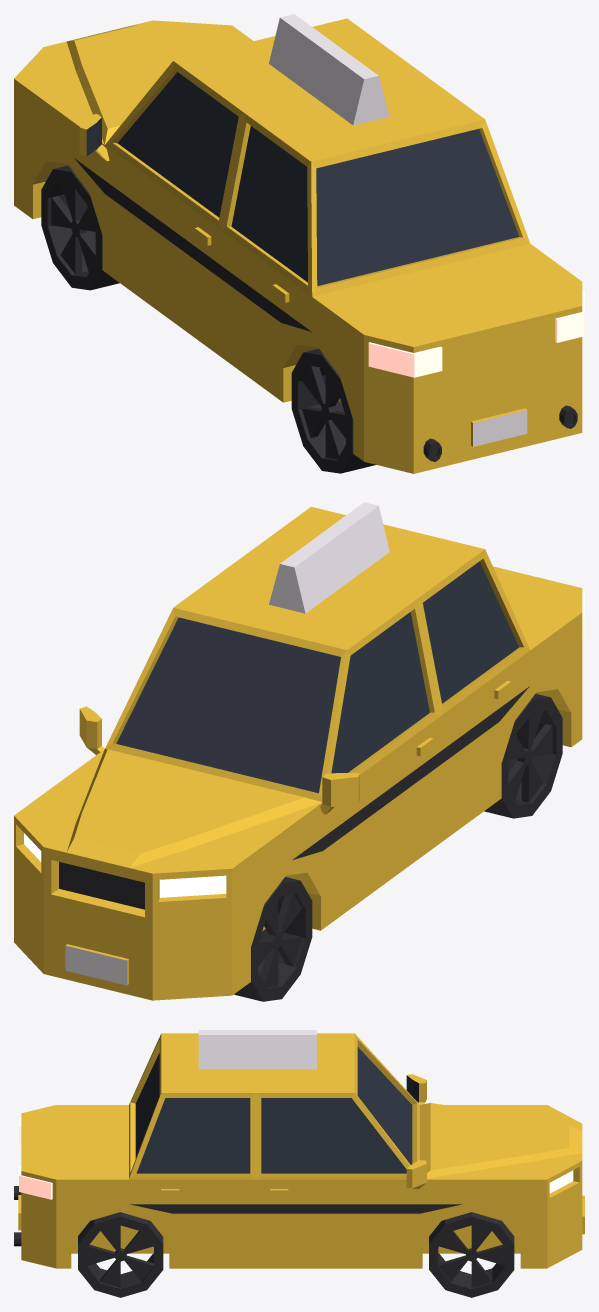
File: rv_taxi.glb
3 renders of one model, top to bottom at view 1: azimuth 30°, elevation 25°; view 2: azimuth 150°, elevation 25°; view 3: azimuth 270°, elevation 25°, orthographic. The views are drawn at different scales.
Visible parts, largest first — view 1: Body, WheelRL, WheelFL; view 2: Body, WheelFL, WheelRL; view 3: Body, WheelFR, WheelRR.
Boxes of the visible parts, bbox=[...] form: Body: bbox=[14, 14, 584, 473]; WheelRL: bbox=[291, 348, 375, 473]; WheelFL: bbox=[41, 165, 119, 290]; Body: bbox=[14, 502, 584, 1000]; WheelFL: bbox=[234, 877, 312, 1001]; WheelRL: bbox=[484, 693, 562, 818]; Body: bbox=[14, 1030, 584, 1268]; WheelFR: bbox=[429, 1212, 514, 1297]; WheelRR: bbox=[78, 1212, 163, 1297].
Bounding box in the file's own units: 1.86 × 2.08 × 4.7.
